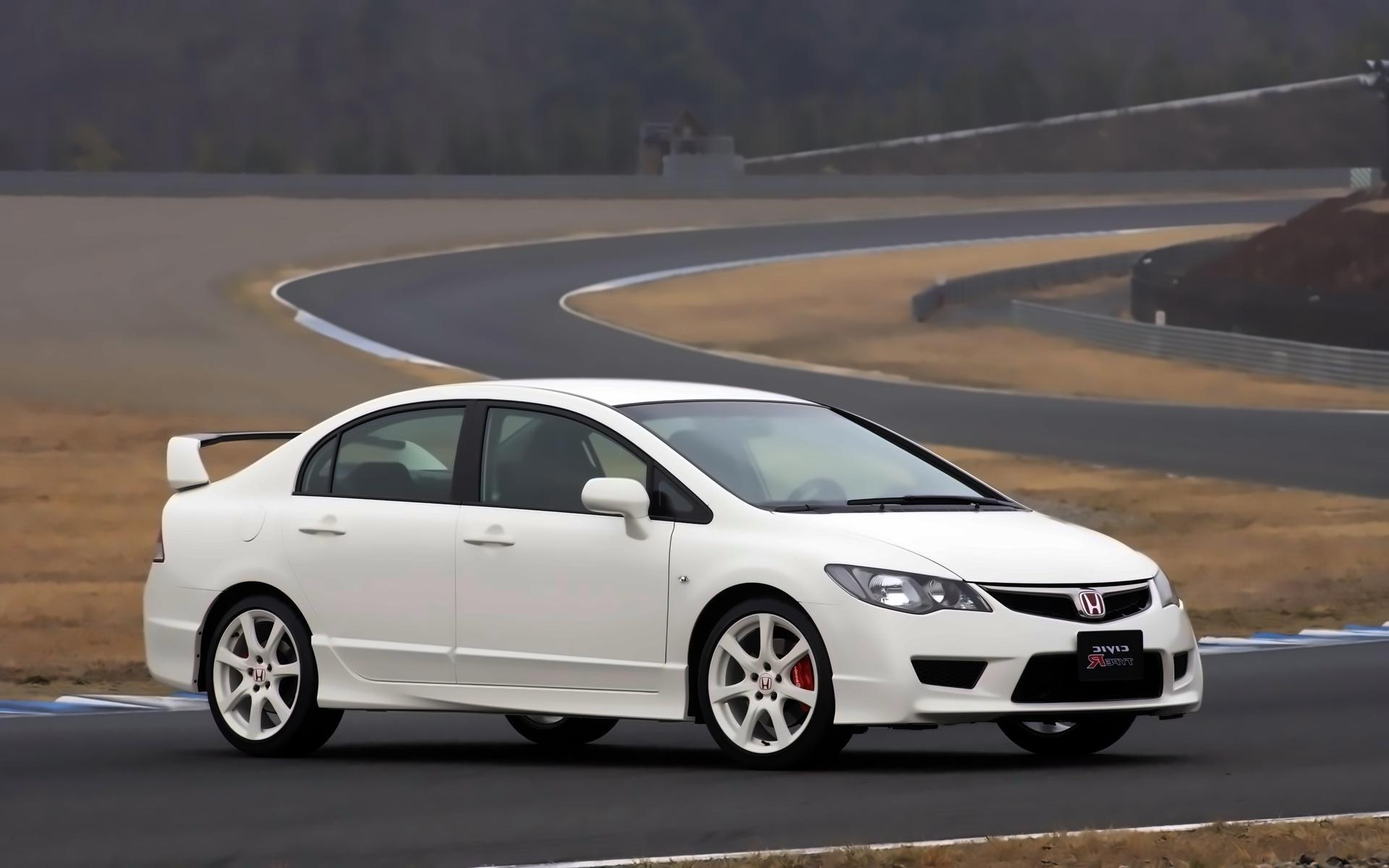Car hood: (766, 501, 1166, 592)
Driver-s door - -F-R-: (454, 384, 667, 701)
Fender - -F-R-: (669, 499, 857, 703)
Fender - -R-R-: (187, 496, 298, 632)
Front bumper: (803, 602, 1213, 734)
Headlight - -L-: (1142, 557, 1191, 614)
Headlight - -R-: (816, 556, 999, 618)
Passenger-s door - -R-R-: (284, 382, 454, 696)
Rear bumper: (117, 583, 229, 699)
Rear light - -R-: (148, 502, 181, 578)
Side bumper - -R-: (300, 631, 700, 724)
Side mirror - -R-: (576, 470, 658, 546)
